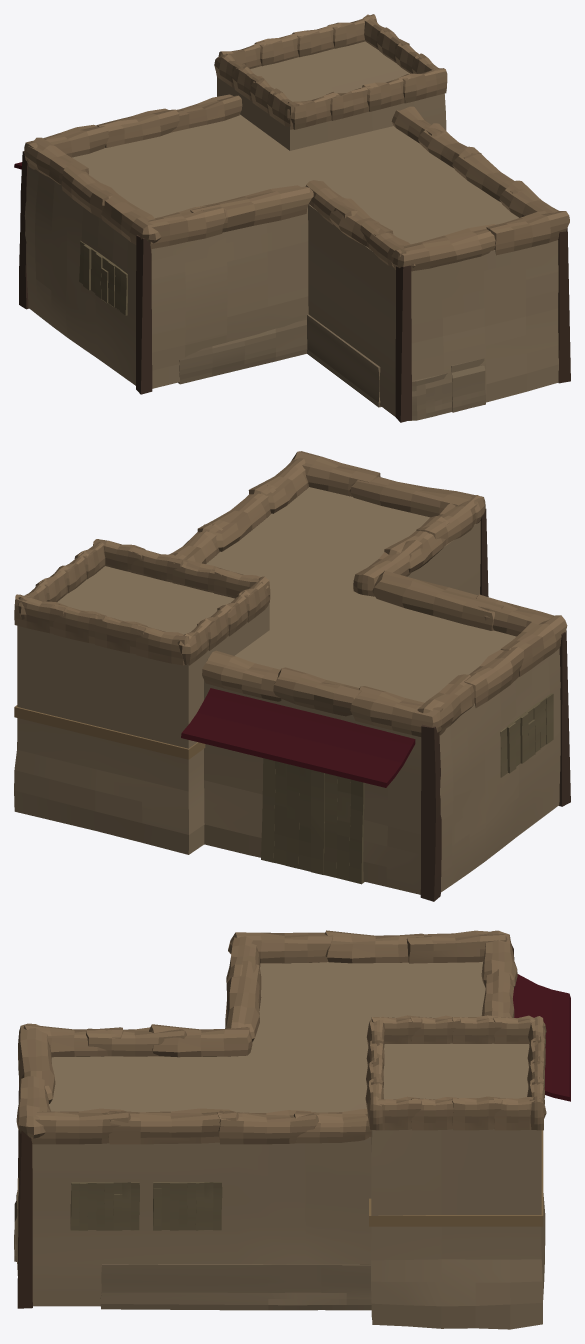
File: houseFIXED.fbx
3 renders of one model, top to bottom at view 1: azimuth 30°, elevation 25°; view 2: azimuth 150°, elevation 25°; view 3: azimuth 270°, elevation 25°, orthographic. The views are drawn at different scales.
Parts seen in each view (by area): view 1: Cube.046; view 2: Cube.046, Cube.001; view 3: Cube.046, Cube.001.
Boxes of the visible parts, x1=… form: Cube.046: x1=19, y1=14, x2=570, y2=422; Cube.046: x1=14, y1=451, x2=570, y2=901; Cube.001: x1=181, y1=688, x2=415, y2=787; Cube.046: x1=14, y1=930, x2=546, y2=1329; Cube.001: x1=513, y1=974, x2=570, y2=1101.
Size of the model in its own units: 1094 by 556 by 1234.
